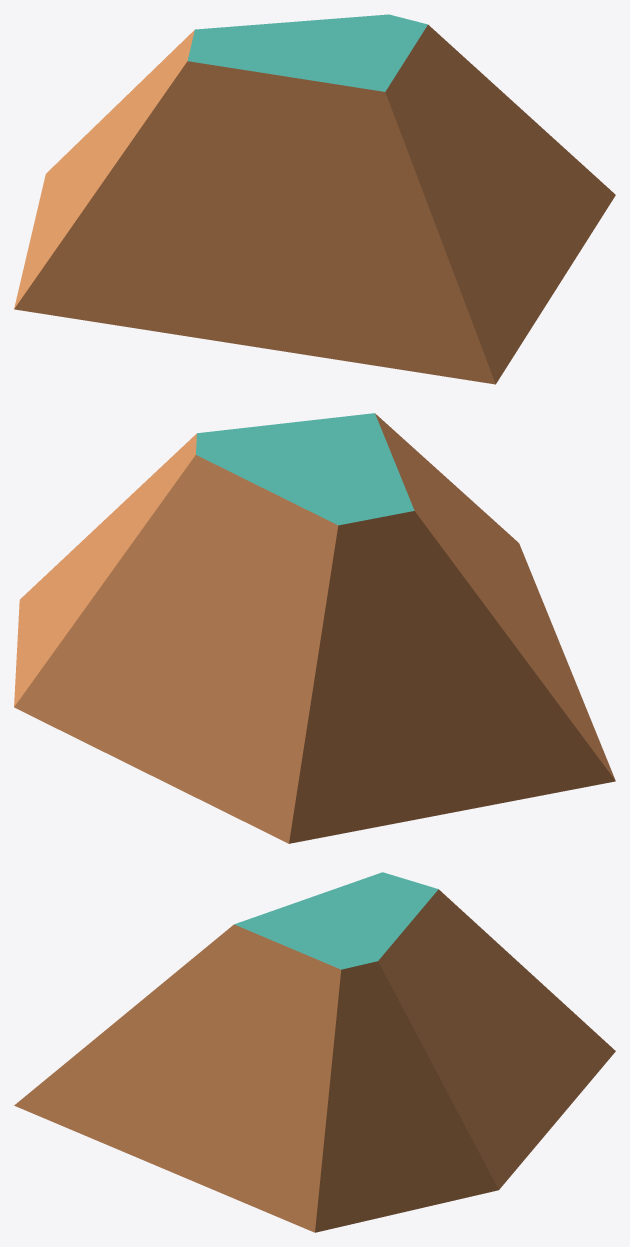
File: rock_small3.obj
The picture shows the model from 3 angles, top to bottom: view 1: azimuth 30°, elevation 25°; view 2: azimuth 150°, elevation 25°; view 3: azimuth 270°, elevation 25°; orthographic projection. The views are drawn at different scales.
Visible parts, largest first — view 1: rock_small3; view 2: rock_small3; view 3: rock_small3.
Boxes of the visible parts, x1,y1,x2,y2 form: rock_small3: (14,14,615,384); rock_small3: (14,413,615,843); rock_small3: (14,872,615,1232).
Bounding box in the file's own units: 3.61 × 1.23 × 3.61.
